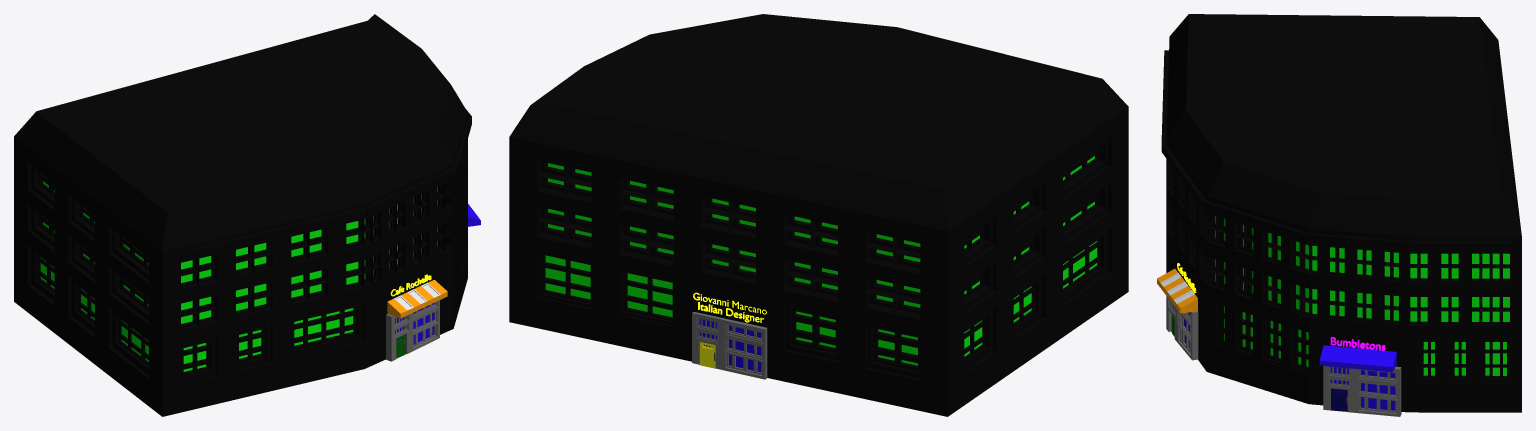
File: KingstonStreetxAltonRoadShops.fbx
3 renders of one model, left to right at view 1: azimuth 30°, elevation 25°; view 2: azimuth 150°, elevation 25°; view 3: azimuth 270°, elevation 25°, orthographic. The views are drawn at different scales.
Parts seen in each view (by area): view 1: KSARS, Storefront, CAFEROCHELLECanopy; view 2: KSARS, Storefront.002; view 3: KSARS, Storefront.001, BUMBLETONSCanopy, Storefront, CAFEROCHELLECanopy, Door, BUMBLETONS.
Boxes of the visible parts, x1,y1,x2,y2 form: KSARS: (14,14,471,416); Storefront: (386,300,439,361); CAFEROCHELLECanopy: (387,280,447,318); KSARS: (509,14,1128,416); Storefront.002: (692,312,767,379); KSARS: (1161,14,1521,412); Storefront.001: (1323,366,1401,416); BUMBLETONSCanopy: (1319,345,1396,372); Storefront: (1166,296,1198,360); CAFEROCHELLECanopy: (1157,268,1197,313); Door: (1331,388,1347,411); BUMBLETONS: (1330,337,1385,351).
Size of the model in its own units: 5179 by 2421 by 3838.
